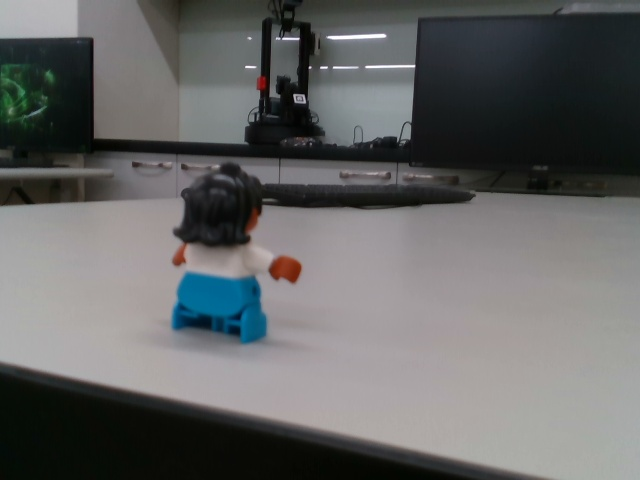people: (166, 166, 307, 346)
